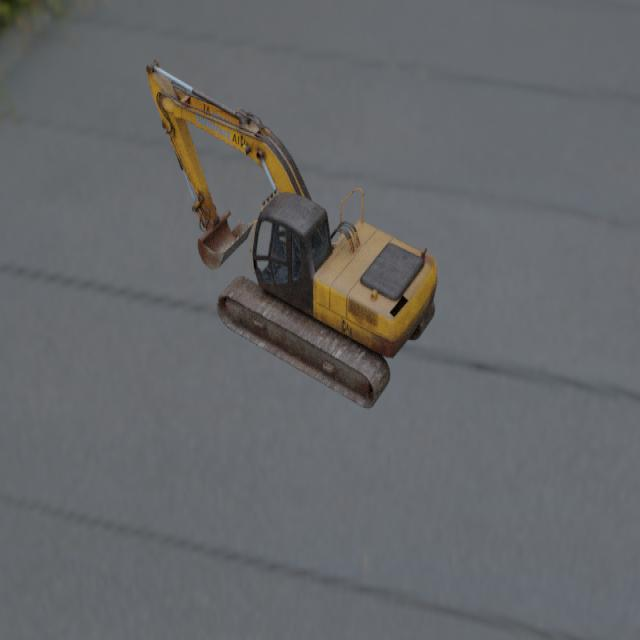excavator: (145, 59, 437, 409)
